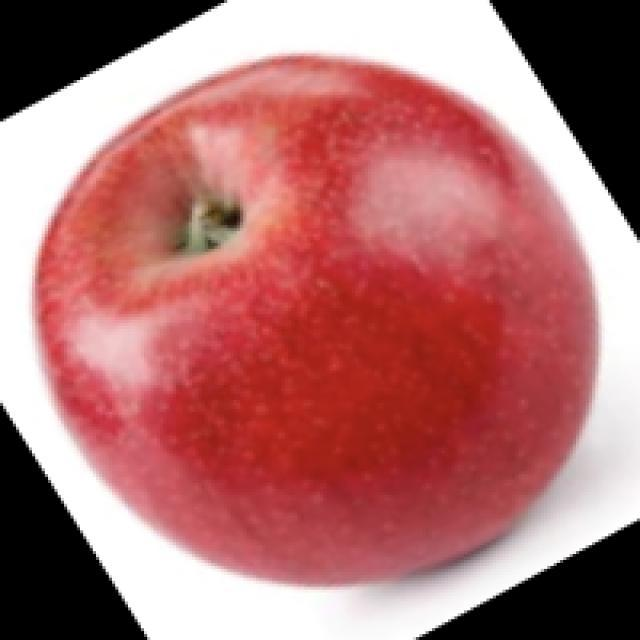Fresh Apple: (25, 47, 599, 590)
